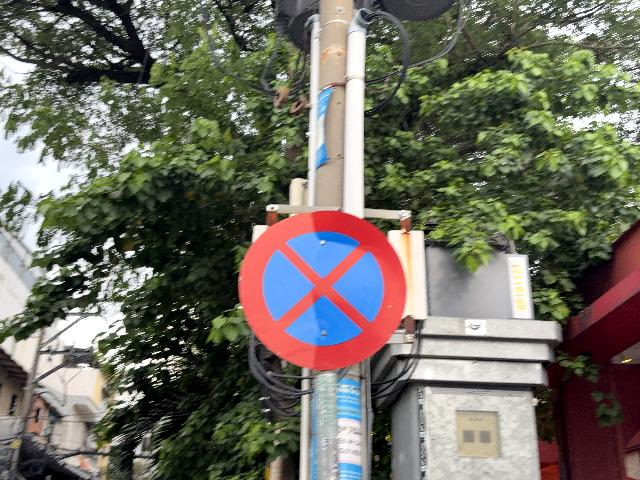cam-dung-va-do-xe: (239, 209, 406, 370)
